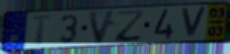3: (58, 14, 80, 44)
4: (153, 8, 175, 41)
T: (30, 14, 54, 46)
V: (87, 9, 118, 46), (179, 7, 208, 40)
Z: (115, 9, 146, 43)
